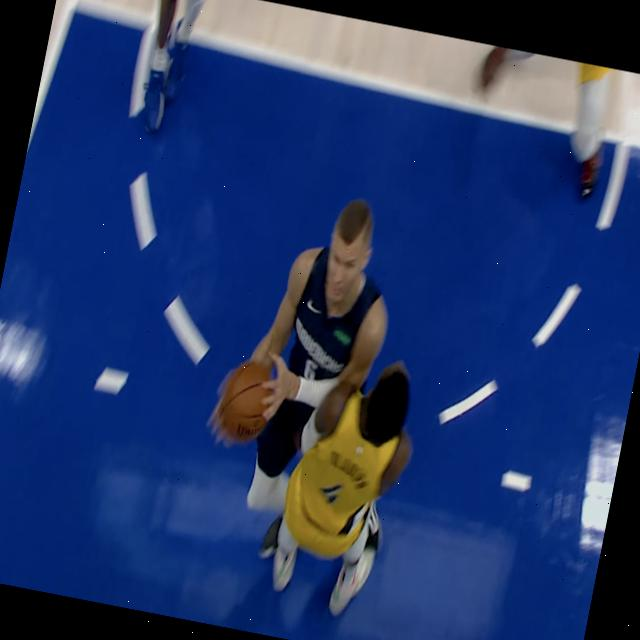foul: (150, 149, 477, 640)
